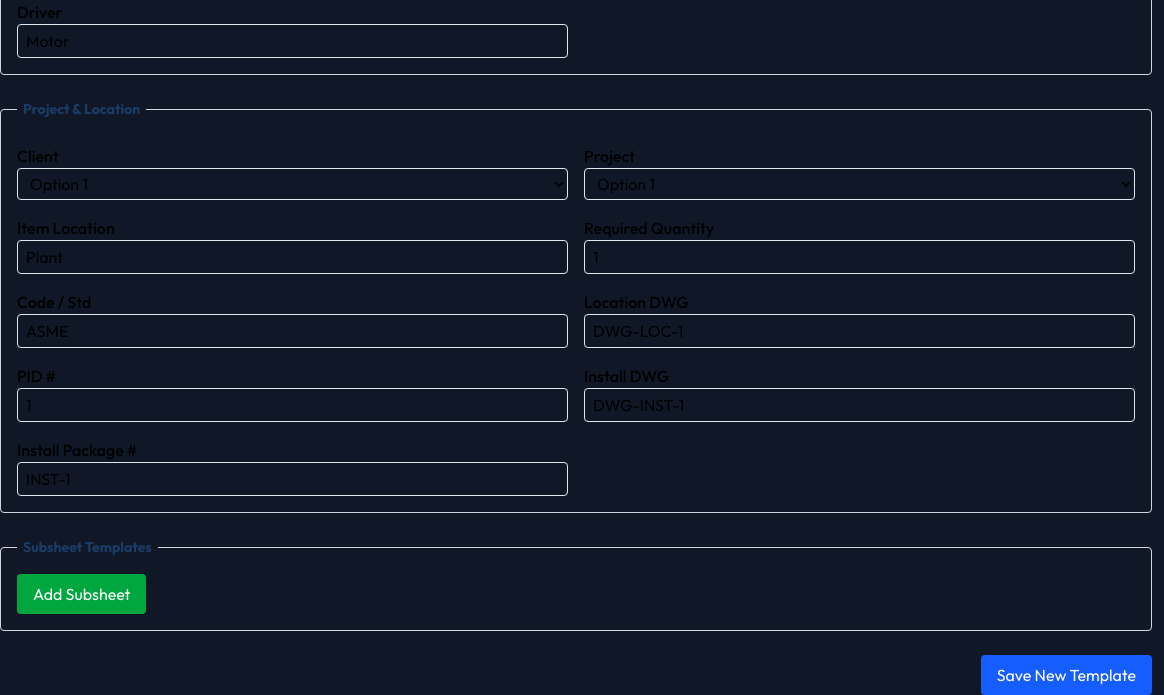
Scenario: TemplateClonerForm › requires at least one subsheet and shows error if none
(page scrolled)
Click the button "Save New Template" at (1066, 675), box [981,655,1152,694]
(page scrolled)
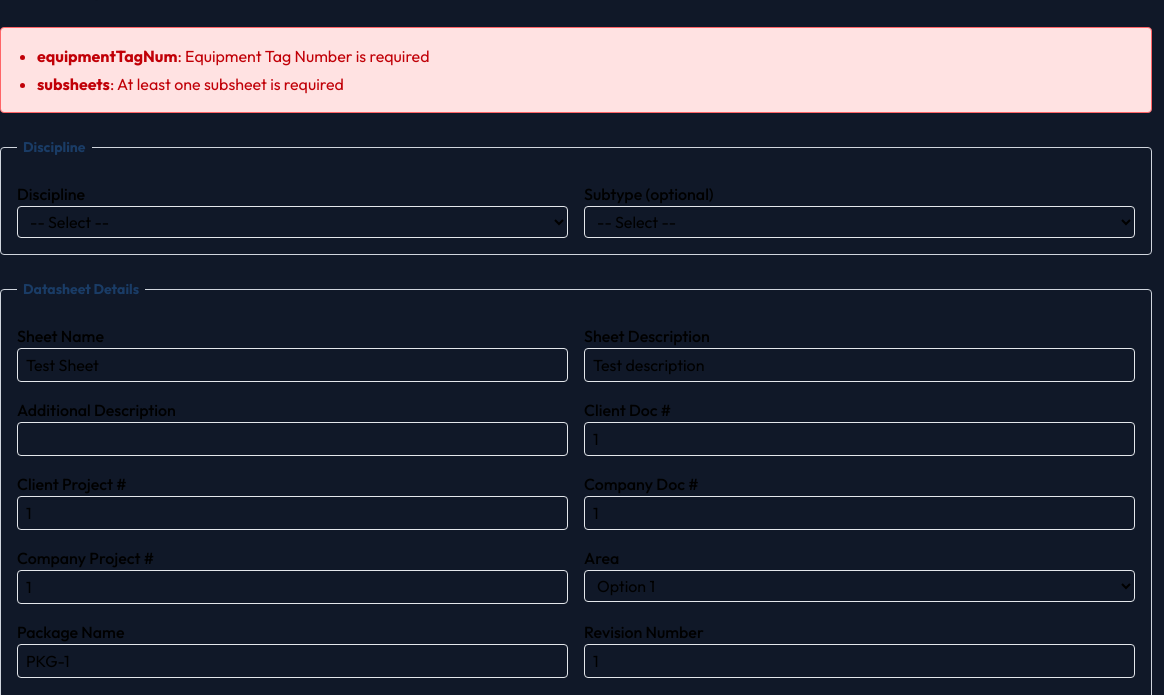
Now the list item "subsheets: At least one subsheet is required" is shown, box [37,74,344,94]
